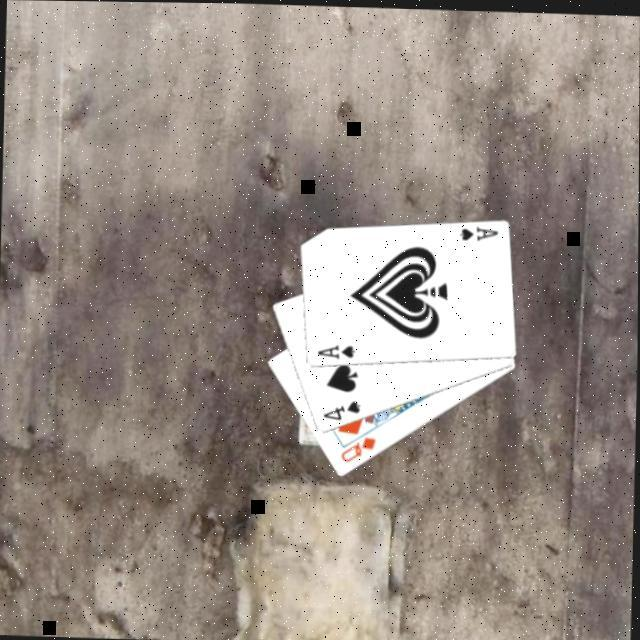4S: (318, 393, 362, 421)
AS: (311, 338, 355, 360), (454, 219, 498, 241)
QD: (335, 429, 378, 463)
